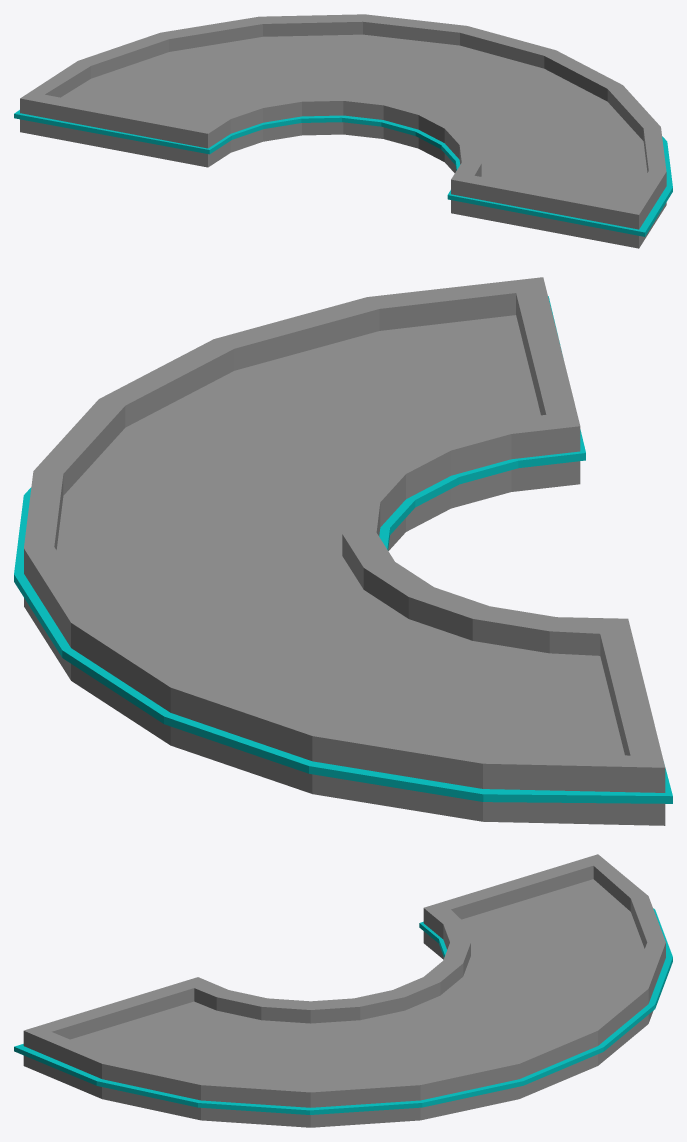
Rendered from MSH_PlataformaCurva.FBX.
3 renders of one model, top to bottom at view 1: azimuth 30°, elevation 25°; view 2: azimuth 150°, elevation 25°; view 3: azimuth 270°, elevation 25°, orthographic. The views are drawn at different scales.
Parts seen in each view (by area): view 1: P-CurvaBorde, P-CurvaBorde002, P-CurvaNeon; view 2: P-CurvaBorde, P-CurvaBorde002, P-CurvaNeon; view 3: P-CurvaBorde, P-CurvaBorde002, P-CurvaNeon.
Boxes of the visible parts, left/top/right/bottom form: P-CurvaBorde: left=20, top=14, right=666, bottom=248; P-CurvaBorde002: left=76, top=41, right=632, bottom=202; P-CurvaNeon: left=14, top=110, right=672, bottom=236; P-CurvaBorde: left=24, top=277, right=665, bottom=825; P-CurvaBorde002: left=82, top=330, right=596, bottom=754; P-CurvaNeon: left=14, top=296, right=672, bottom=803; P-CurvaBorde: left=23, top=854, right=665, bottom=1127; P-CurvaBorde002: left=82, top=890, right=630, bottom=1084; P-CurvaNeon: left=14, top=908, right=672, bottom=1114.
Size of the model in its own units: 1586 by 107 by 1814.
